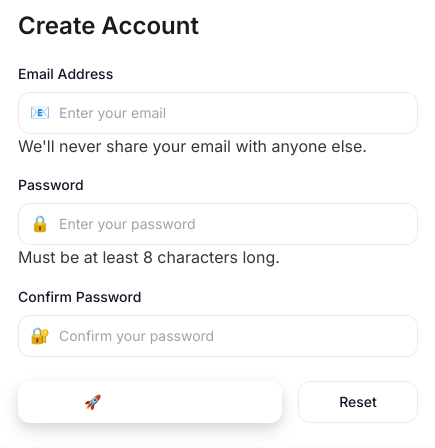
it: Form Integration › Form Validation › clears errors when user starts typing
Submit empty form to show errors
Click the button "🚀 Create Account". click: [150, 402]
box: [18,381,282,423]
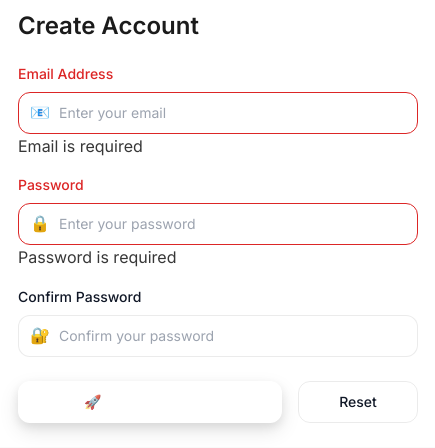
Expected: the text "Email is required" is shown, [18,136,143,156]
Start typing in email field
Type "test@example.com" into the field labelled "Email Address". click: [218, 113]
box: [18,92,418,134]
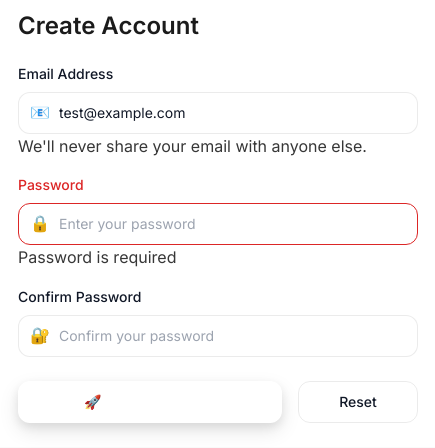
Expected: the text "Email is required" is gone
